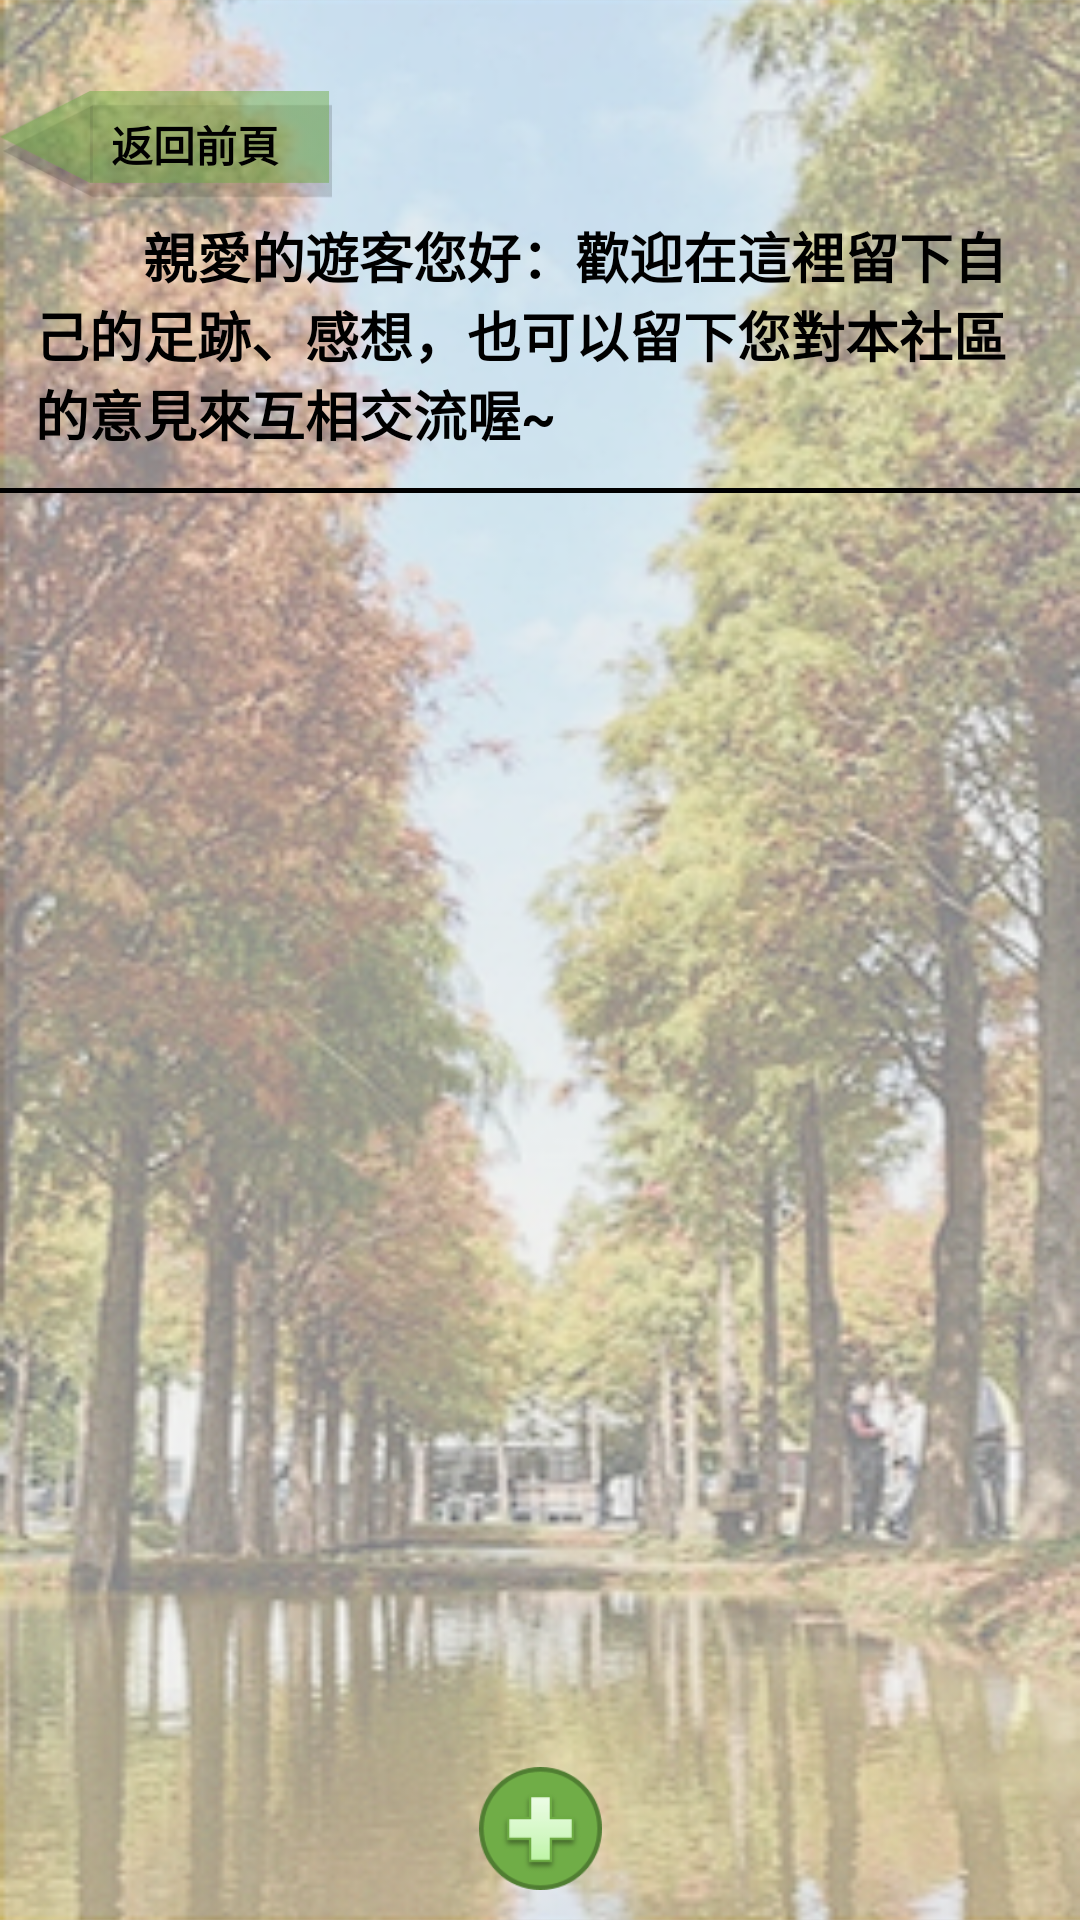

Icons on this 1080 × 1920 Android screen, each with the point to tap as point (x, y):
plus: point (540, 1828)
